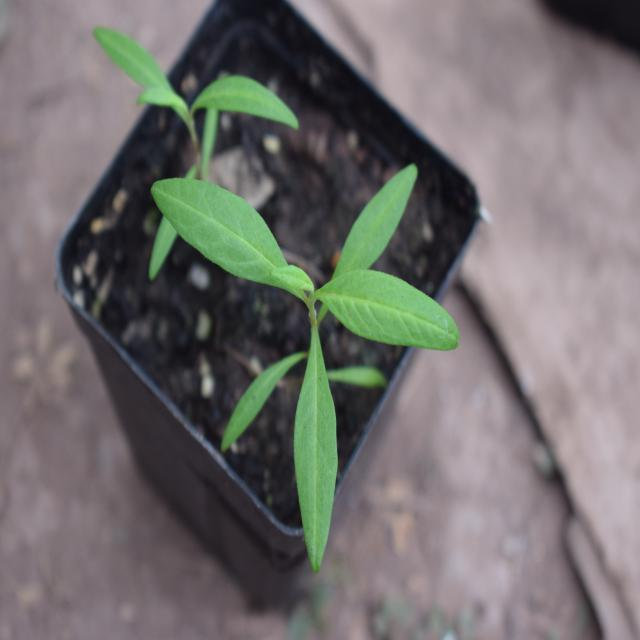white_smart_weed: (152, 152, 444, 545)
